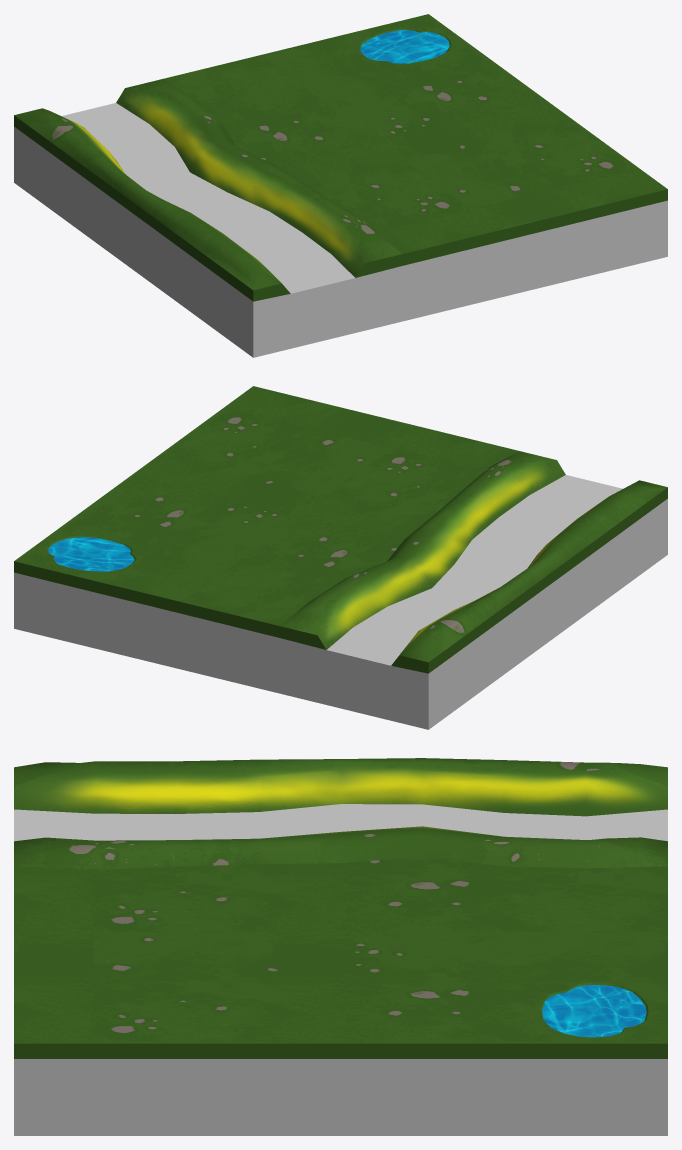
The model's file is Ground13.fbx.
3 renders of one model, top to bottom at view 1: azimuth 30°, elevation 25°; view 2: azimuth 150°, elevation 25°; view 3: azimuth 270°, elevation 25°, orthographic. The views are drawn at different scales.
Visible parts, largest first — view 1: Ground13, Ground13_Water; view 2: Ground13, Ground13_Water; view 3: Ground13, Ground13_Water.
Part boxes in pixels (x1,y1,x2,y2): Ground13: [14, 14, 667, 357]; Ground13_Water: [360, 30, 449, 63]; Ground13: [14, 386, 667, 729]; Ground13_Water: [48, 537, 134, 571]; Ground13: [14, 758, 667, 1135]; Ground13_Water: [542, 985, 646, 1037].
Size of the model in its own units: 2699 by 2699 by 479.
